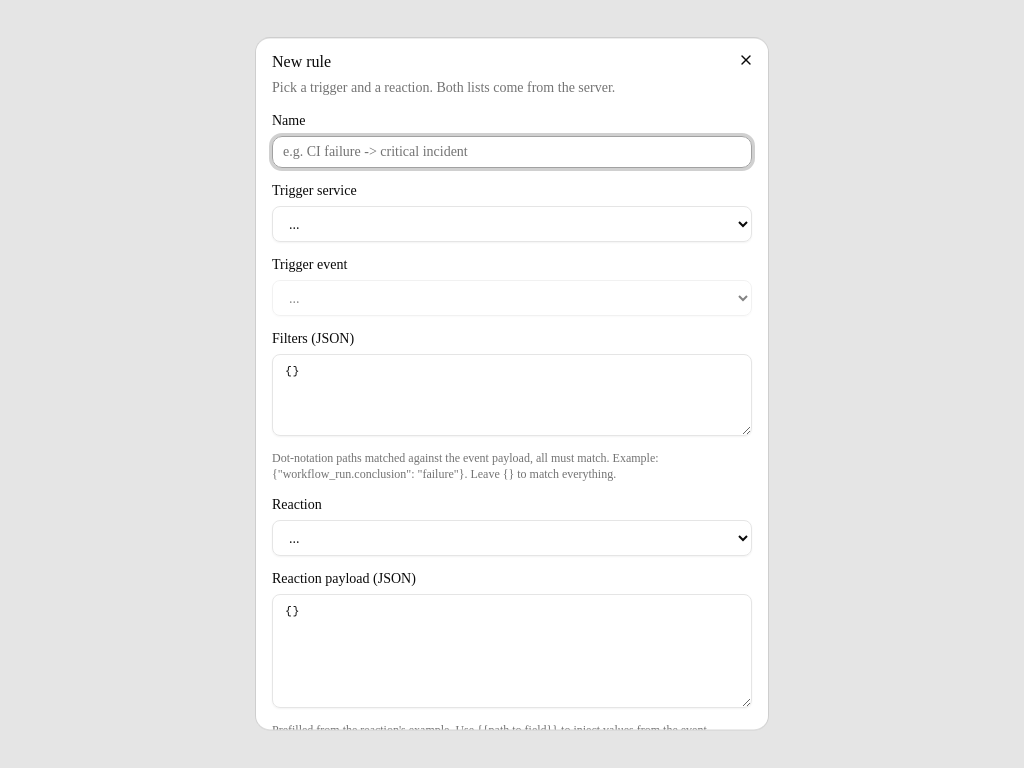
Test: RuleFormDialog › shows error for missing reaction
Expected: the dialog is shown, [256,38,768,730]
Type "Test" into the field labelled "Name". click: {"x": 512, "y": 152}
box: [272,136,752,168]
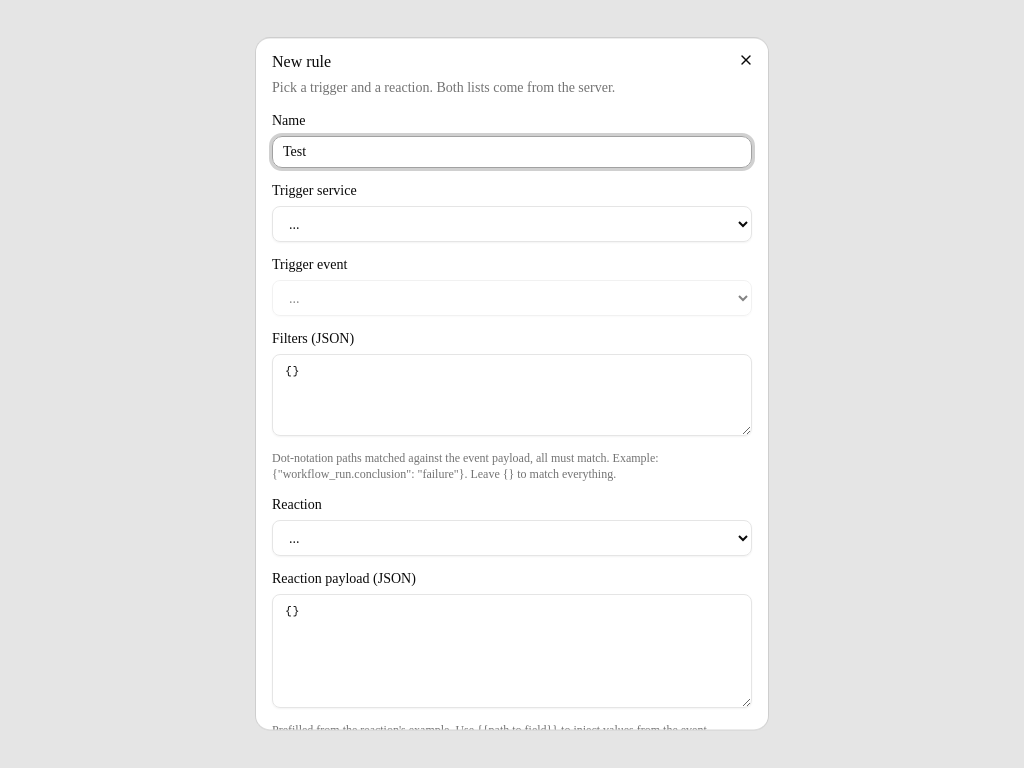
Select "github" in the dropdown labelled "Trigger service". click: {"x": 512, "y": 224}
box: [272,206,752,242]
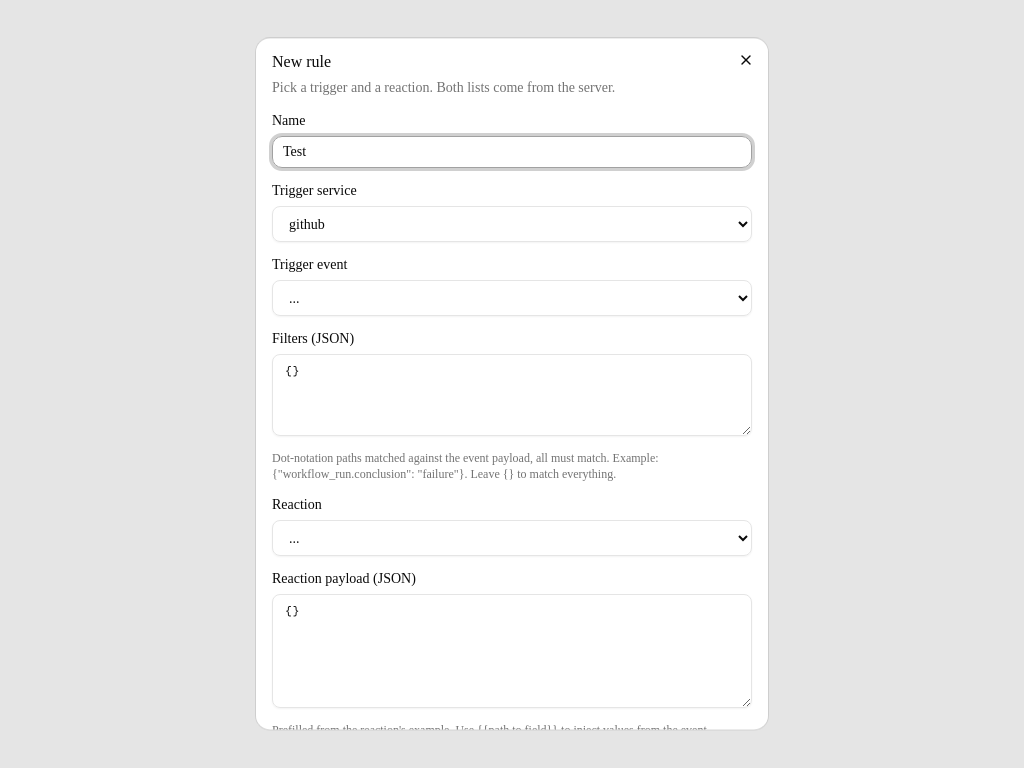
Select "workflow_run" in the dropdown labelled "Trigger event". click: {"x": 512, "y": 298}
box: [272,280,752,316]
(page scrolled)
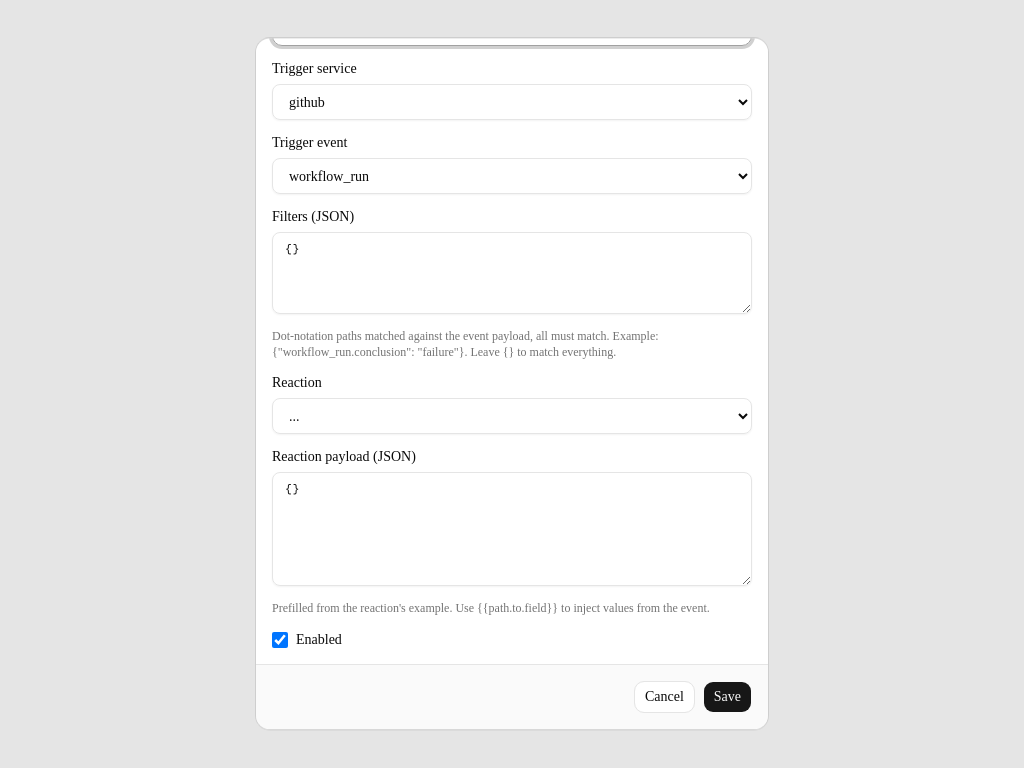
Click the button "Save". click: {"x": 727, "y": 697}
box: [703,681,752,713]
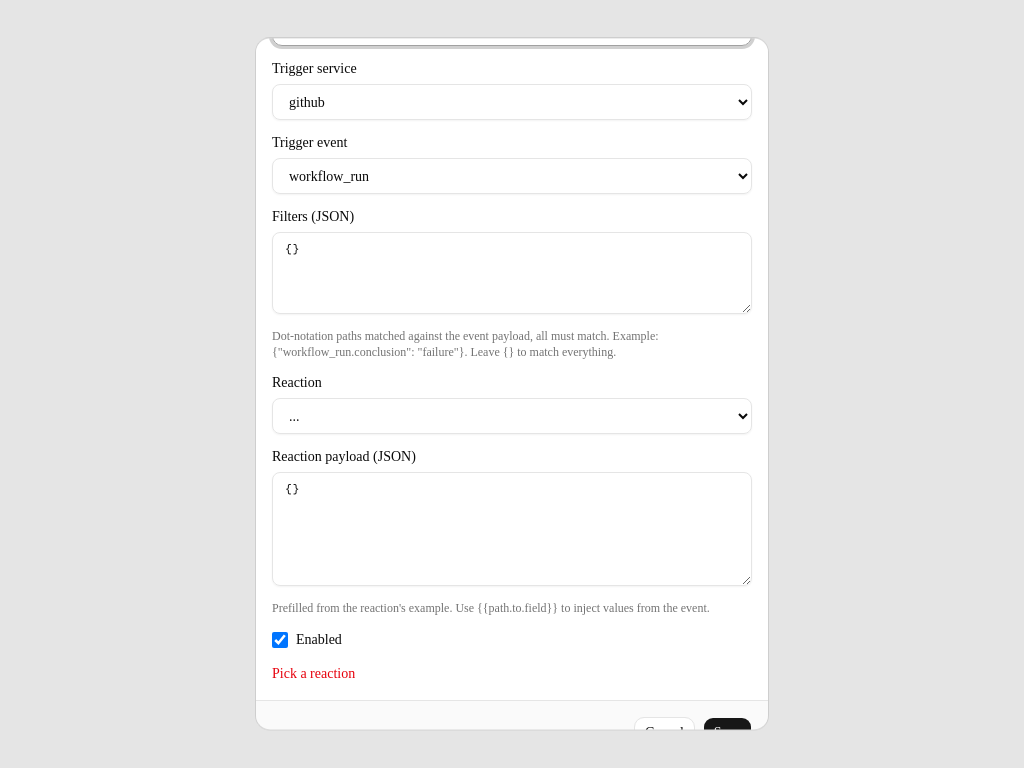
Expected: the text "Pick a reaction" is shown, [272,666,355,681]
